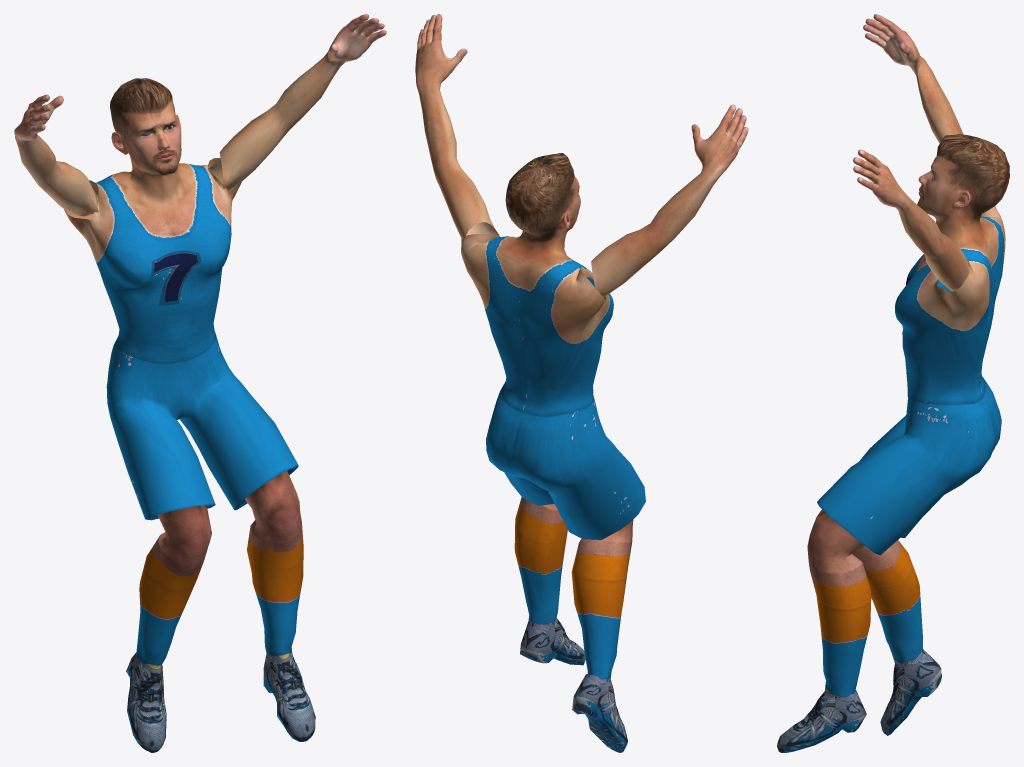
The model's file is basketball-defender-derived.glb.
The picture shows the model from 3 angles, left to right: view 1: azimuth 30°, elevation 25°; view 2: azimuth 150°, elevation 25°; view 3: azimuth 270°, elevation 25°; orthographic projection. The views are drawn at different scales.
Visible parts, largest first — view 1: H_DDS_MidRes__Body_Mid_0; view 2: H_DDS_MidRes__Body_Mid_0; view 3: H_DDS_MidRes__Body_Mid_0.
Part boxes in pixels (x1,y1,x2,y2): H_DDS_MidRes__Body_Mid_0: (14, 14, 386, 752); H_DDS_MidRes__Body_Mid_0: (415, 14, 748, 752); H_DDS_MidRes__Body_Mid_0: (777, 14, 1009, 752).
Bounding box in the file's own units: 0.9985 × 1.95 × 0.6064.
9 materials, 6 textured.
